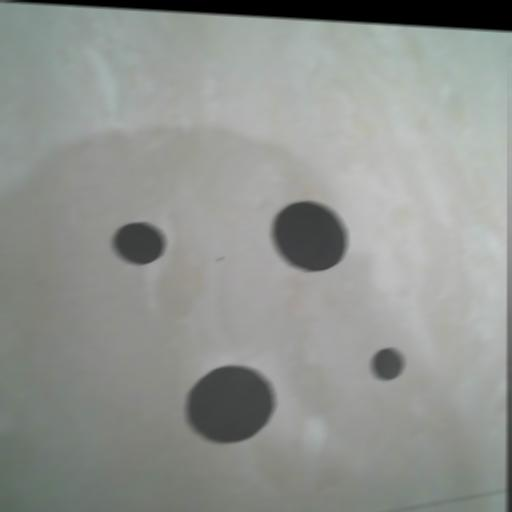pothole: (184, 362, 277, 445), (270, 198, 350, 272), (112, 219, 167, 265), (370, 345, 406, 381)
